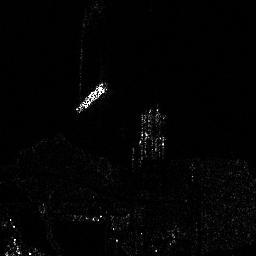ship: (74, 81, 106, 112)
